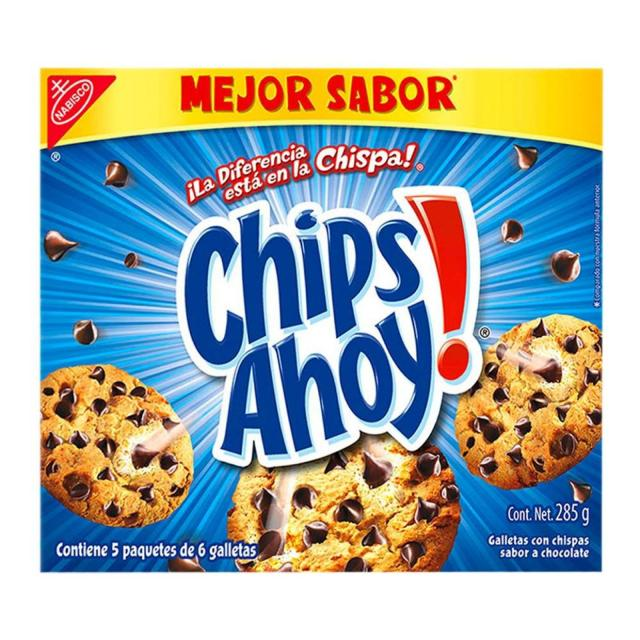Caja: (29, 54, 607, 589)
